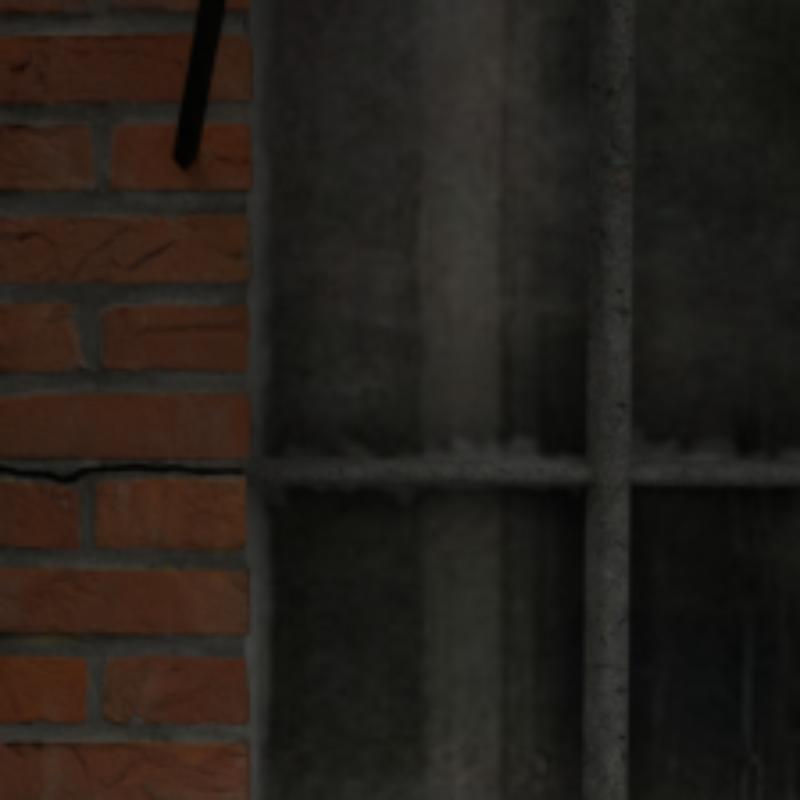pothole: (0, 464, 120, 479), (132, 465, 243, 471)
